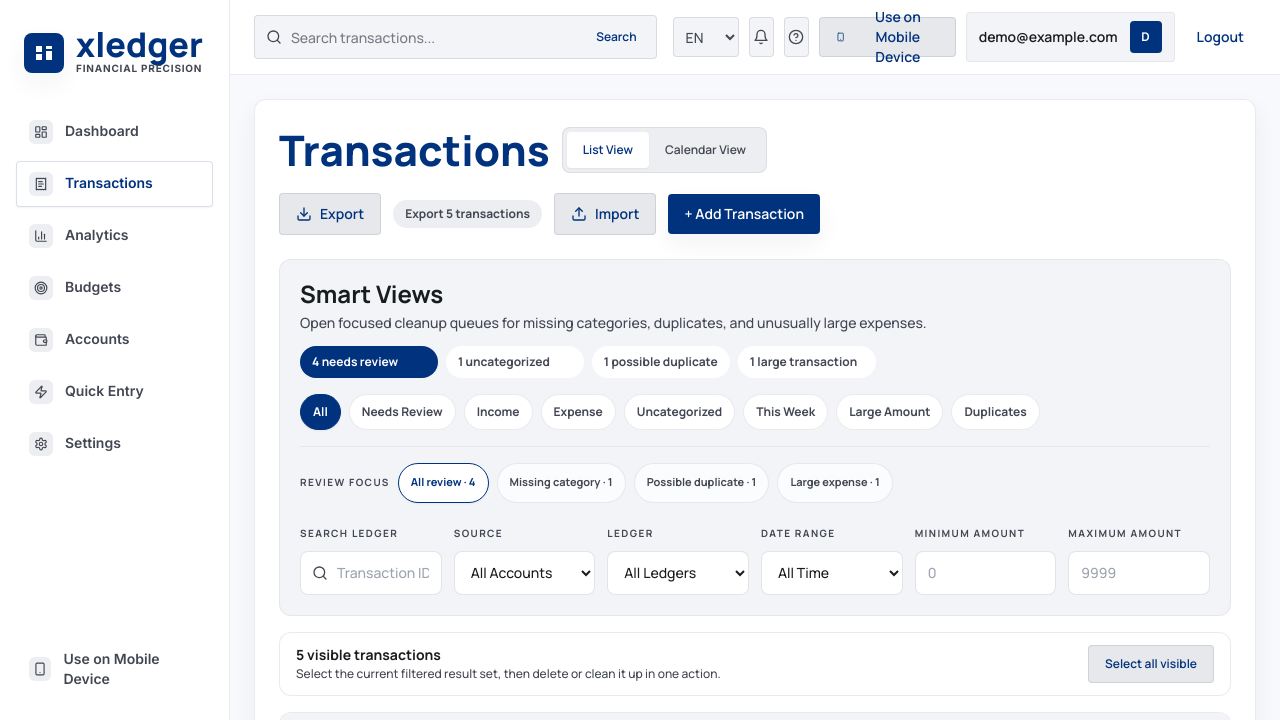
transactions domain › preselects the only account and explains category choice in the add transaction modal
Click the button "+ Add Transaction".
click(744, 214)  # box [668,194,820,234]
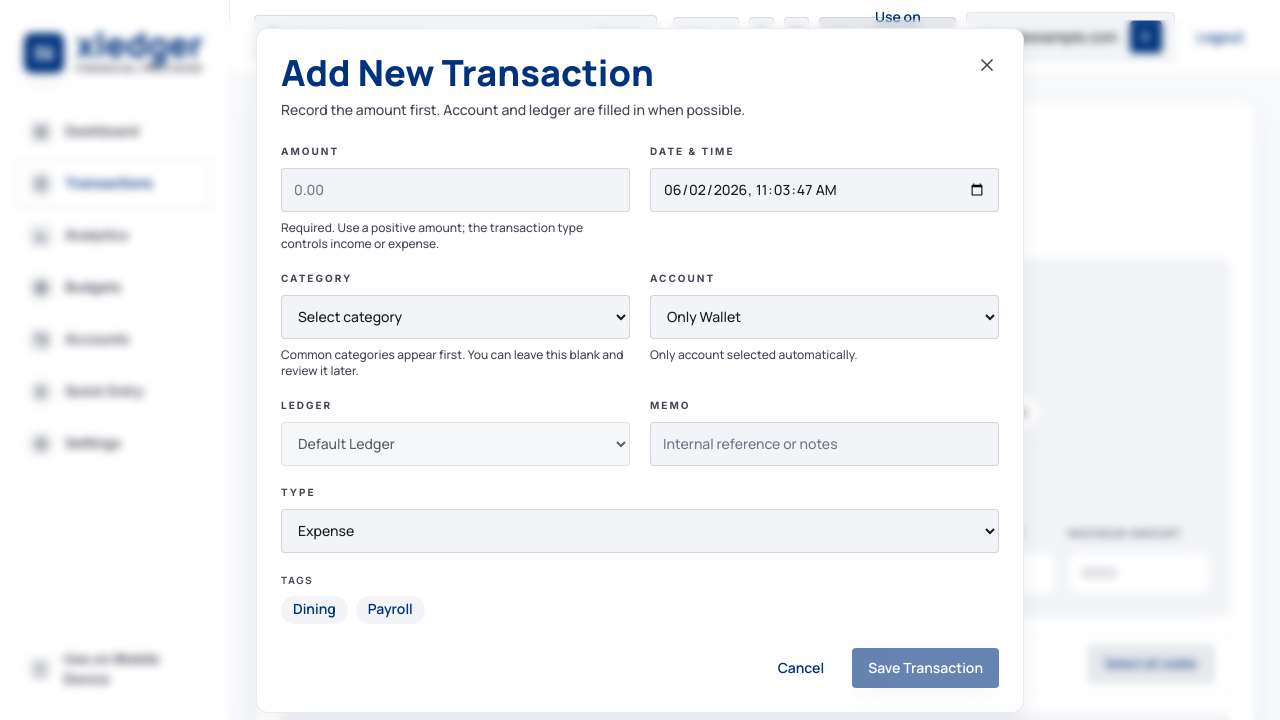
Now the dropdown labelled "Account" shows "Only Wallet", box [650,294,999,338]
Now the text "Common categories appear first" is shown, box [281,346,624,378]
